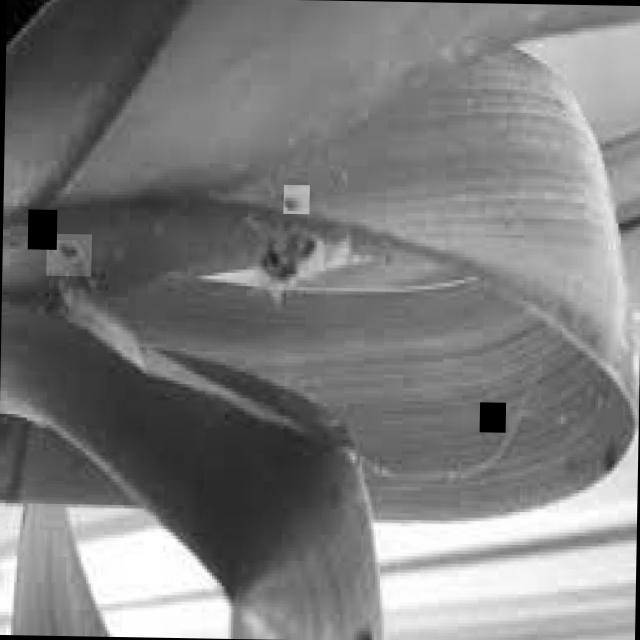scale_insect: (44, 233, 90, 276), (26, 208, 56, 250), (478, 402, 505, 432), (282, 184, 308, 213)
